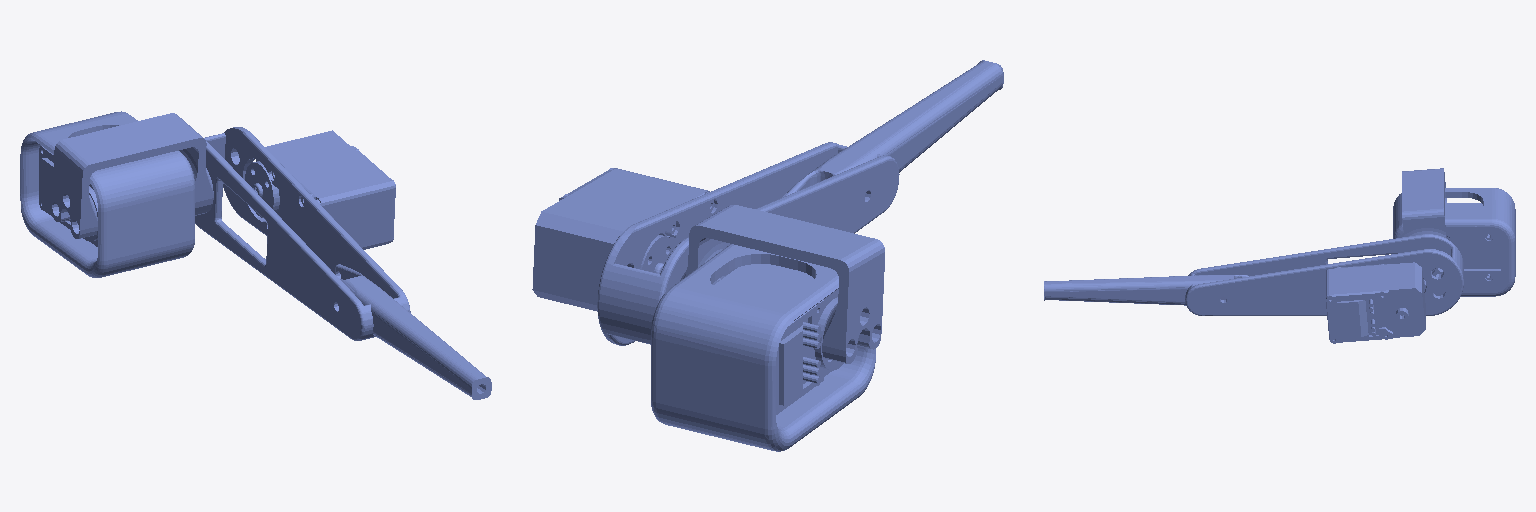
URDF robot description (limb_sub.SLDASM):
<?xml version="1.0" encoding="utf-8"?>
<!-- This URDF was automatically created by SolidWorks to URDF Exporter! Originally created by Stephen Brawner (brawner@gmail.com) 
     Commit Version: 1.6.0-4-g7f85cfe  Build Version: 1.6.7995.38578
     For more information, please see http://wiki.ros.org/sw_urdf_exporter -->
<robot
  name="limb_sub.SLDASM">
  <link
    name="shoulder_link">
    <inertial>
      <origin
        xyz="0.00156778084450622 0.00023011490355522 0.0188653348885318"
        rpy="0 0 0" />
      <mass
        value="0.0668523982562037" />
      <inertia
        ixx="2.59076494418216E-05"
        ixy="-7.12609209313921E-08"
        ixz="-3.38158087429427E-07"
        iyy="1.53510229543711E-05"
        iyz="-2.56253037144619E-08"
        izz="2.5742400586002E-05" />
    </inertial>
    <visual>
      <origin
        xyz="0 0 0"
        rpy="0 0 0" />
      <geometry>
        <mesh
          filename="package://limb_sub.SLDASM/meshes/shoulder_link.STL" />
      </geometry>
      <material
        name="">
        <color
          rgba="0.545098039215686 0.615686274509804 0.858823529411765 1" />
      </material>
    </visual>
    <collision>
      <origin
        xyz="0 0 0"
        rpy="0 0 0" />
      <geometry>
        <mesh
          filename="package://limb_sub.SLDASM/meshes/shoulder_link.STL" />
      </geometry>
    </collision>
  </link>
  <link
    name="femur_link">
    <inertial>
      <origin
        xyz="0.0273832027524642 -0.00204211137254596 0.0280691114483194"
        rpy="0 0 0" />
      <mass
        value="0.0660310589468222" />
      <inertia
        ixx="1.26372174256358E-05"
        ixy="-2.79354262209908E-09"
        ixz="-1.19244684545251E-07"
        iyy="4.86450881022467E-05"
        iyz="-4.57382172664923E-07"
        izz="4.44007499741371E-05" />
    </inertial>
    <visual>
      <origin
        xyz="0 0 0"
        rpy="0 0 0" />
      <geometry>
        <mesh
          filename="package://limb_sub.SLDASM/meshes/femur_link.STL" />
      </geometry>
      <material
        name="">
        <color
          rgba="0.545098039215686 0.615686274509804 0.858823529411765 1" />
      </material>
    </visual>
    <collision>
      <origin
        xyz="0 0 0"
        rpy="0 0 0" />
      <geometry>
        <mesh
          filename="package://limb_sub.SLDASM/meshes/femur_link.STL" />
      </geometry>
    </collision>
  </link>
  <joint
    name="hfe_joint"
    type="revolute">
    <origin
      xyz="0.0198 -0.0124999999999998 0.0215"
      rpy="-1.5707963267949 0.0843795007429648 -1.5707963267949" />
    <parent
      link="shoulder_link" />
    <child
      link="femur_link" />
    <axis
      xyz="0 0 1" />
    <limit
      lower="0"
      upper="0"
      effort="0"
      velocity="0" />
  </joint>
  <link
    name="tibia_link">
    <inertial>
      <origin
        xyz="0.0288498831722294 -2.12695301857191E-07 -1.69859593279753E-07"
        rpy="0 0 0" />
      <mass
        value="0.012227756457296" />
      <inertia
        ixx="2.38144473002711E-07"
        ixy="4.86549409070109E-11"
        ixz="2.95033296846384E-11"
        iyy="8.84429570059483E-06"
        iyz="-1.13332312820773E-11"
        izz="8.85815361606418E-06" />
    </inertial>
    <visual>
      <origin
        xyz="0 0 0"
        rpy="0 0 0" />
      <geometry>
        <mesh
          filename="package://limb_sub.SLDASM/meshes/tibia_link.STL" />
      </geometry>
      <material
        name="">
        <color
          rgba="0.545098039215686 0.615686274509804 0.858823529411765 1" />
      </material>
    </visual>
    <collision>
      <origin
        xyz="0 0 0"
        rpy="0 0 0" />
      <geometry>
        <mesh
          filename="package://limb_sub.SLDASM/meshes/tibia_link.STL" />
      </geometry>
    </collision>
  </link>
  <joint
    name="kfe_joint"
    type="revolute">
    <origin
      xyz="0.096057287853238 0 0.0200000000000001"
      rpy="-3.14159265358979 0 -0.0843795007429648" />
    <parent
      link="femur_link" />
    <child
      link="tibia_link" />
    <axis
      xyz="0 0 -1" />
    <limit
      lower="0"
      upper="0"
      effort="0"
      velocity="0" />
  </joint>
</robot>

--- Facts derived from the render (not from the file) ---
Views: 3 orthographic renders of the robot side by side, from view 1: azimuth 30°, elevation 25°; view 2: azimuth 150°, elevation 25°; view 3: azimuth 270°, elevation 25°.
Model limb_sub.SLDASM with 3 links and 2 joints (2 revolute), rooted at shoulder_link, posed all joints at 0.
Visible links, largest first — view 1: femur_link, shoulder_link, tibia_link; view 2: femur_link, shoulder_link, tibia_link; view 3: femur_link, shoulder_link, tibia_link.
Boxes of the visible links, x1,y1,x2,y2 form: femur_link: [52, 113, 410, 340]; shoulder_link: [20, 111, 194, 277]; tibia_link: [335, 264, 491, 399]; femur_link: [532, 142, 899, 363]; shoulder_link: [651, 244, 875, 451]; tibia_link: [782, 60, 1003, 197]; femur_link: [1185, 168, 1463, 343]; shoulder_link: [1393, 188, 1515, 296]; tibia_link: [1044, 275, 1248, 305].
Bounding box of the posed robot: 0.1093 × 0.2209 × 0.048 m (x, y, z).
3 mesh visuals loaded from 3 distinct referenced files (3 binary STL).
